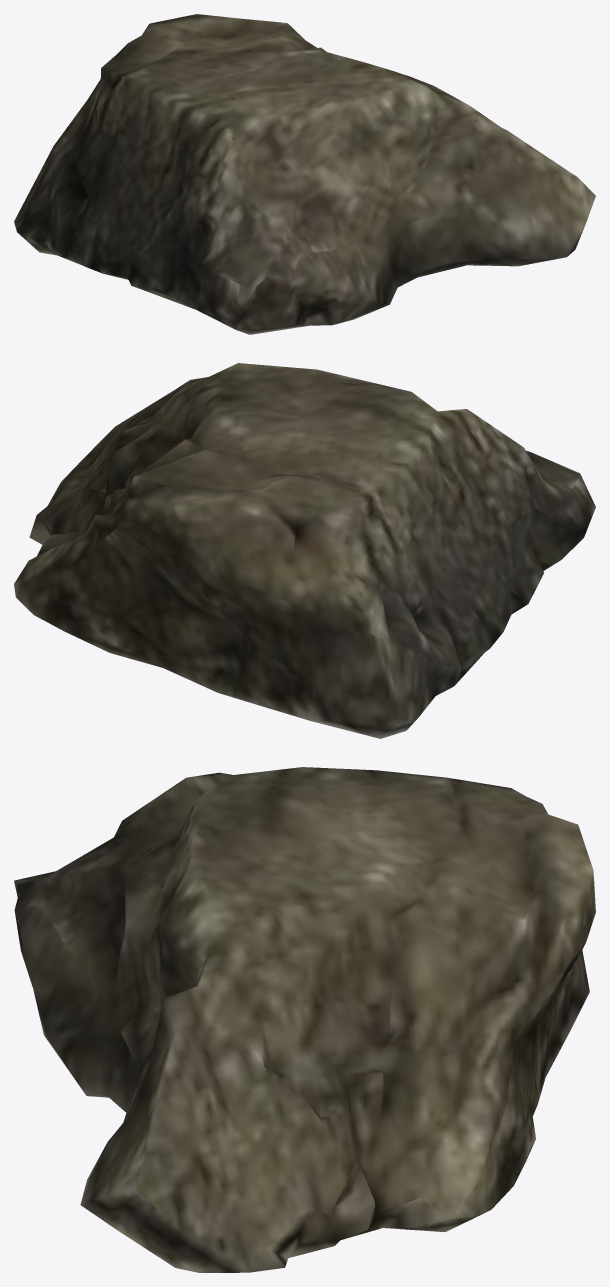
File: rock_moss_set_02_rock08.glb
The picture shows the model from 3 angles, top to bottom: view 1: azimuth 30°, elevation 25°; view 2: azimuth 150°, elevation 25°; view 3: azimuth 270°, elevation 25°; orthographic projection. The views are drawn at different scales.
Parts seen in each view (by area): view 1: rock_moss_set_02_rock08; view 2: rock_moss_set_02_rock08; view 3: rock_moss_set_02_rock08.
Boxes of the visible parts, left/top/right/bottom form: rock_moss_set_02_rock08: left=14, top=14, right=595, bottom=334; rock_moss_set_02_rock08: left=14, top=363, right=595, bottom=738; rock_moss_set_02_rock08: left=14, top=767, right=595, bottom=1272.
Bounding box in the file's own units: 1.2 × 0.5253 × 0.9711.
1 material, 1 textured.
